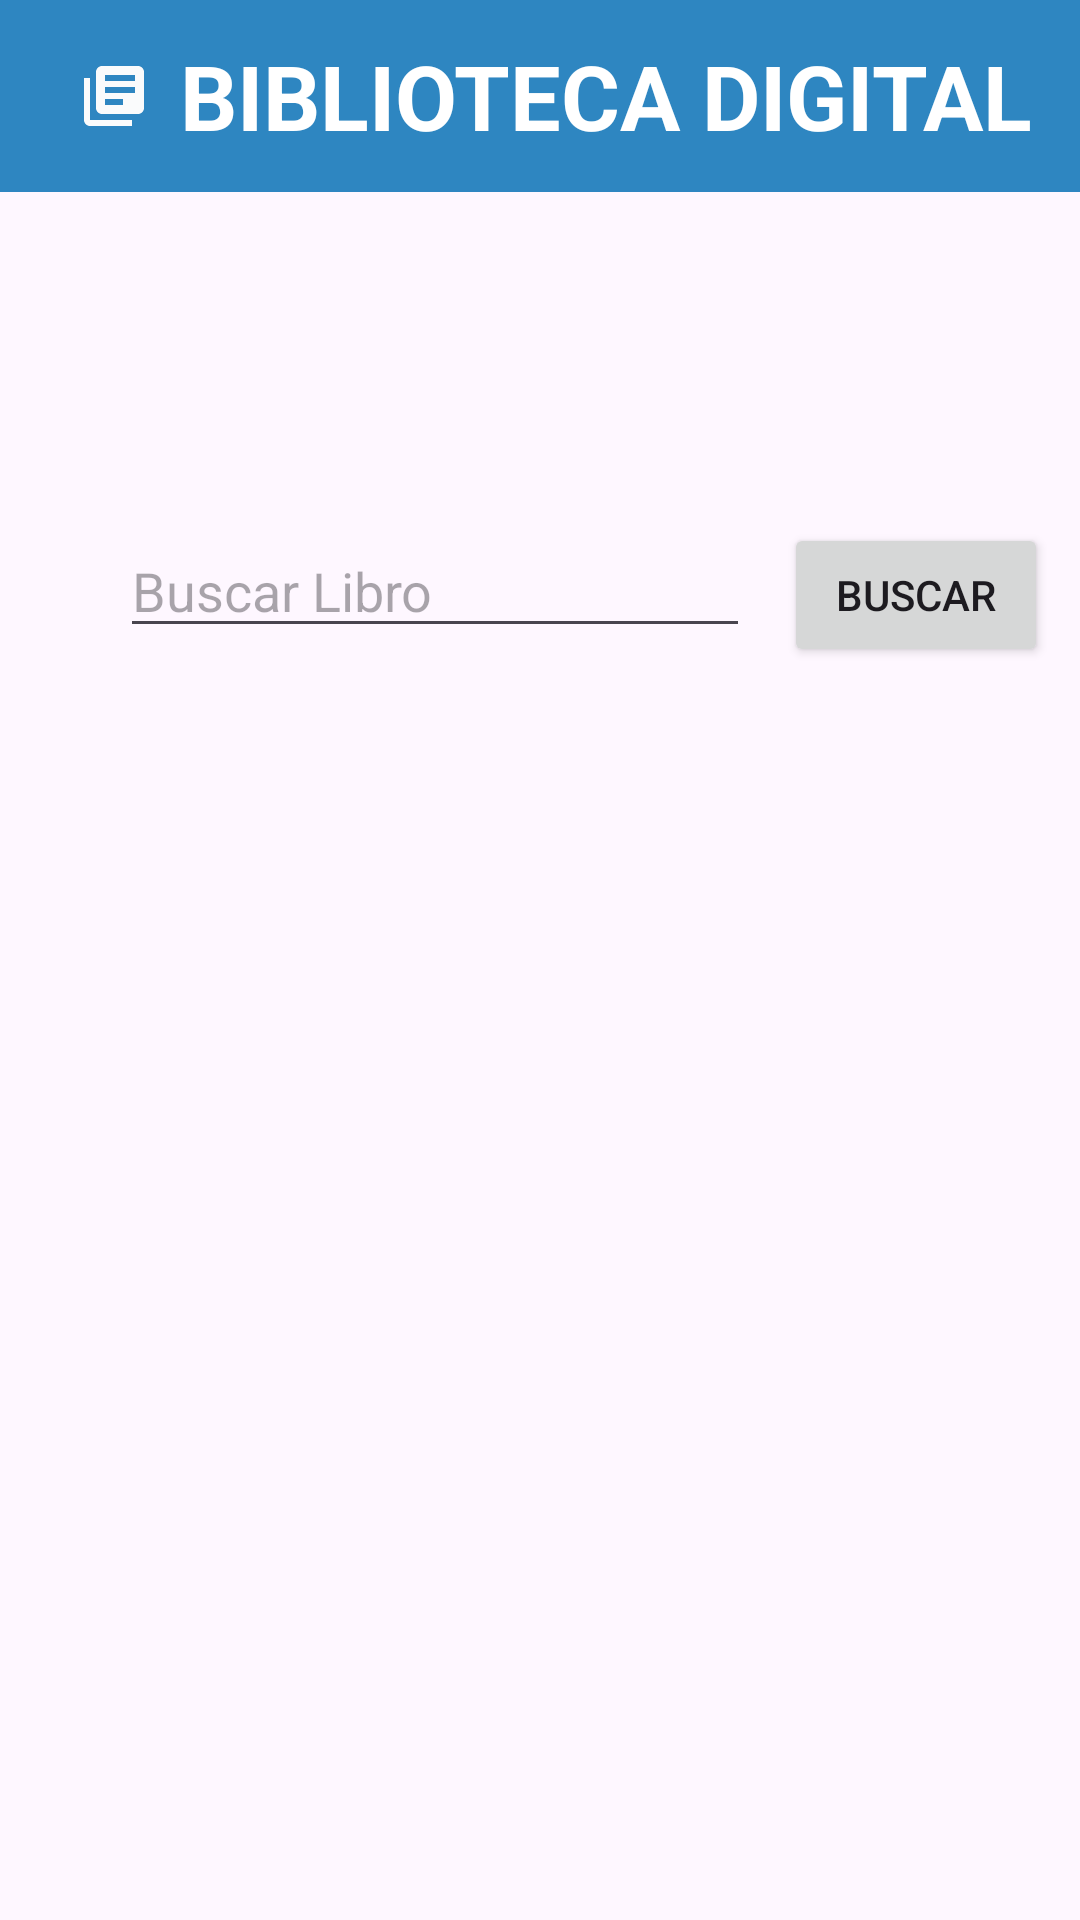

Where icons sit on this 1080px x 1920px app screen, as detection(x1, y1, x2, y2):
library books: detection(84, 66, 144, 126)
